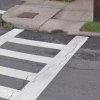Crosswalk: (5, 23, 69, 100)
